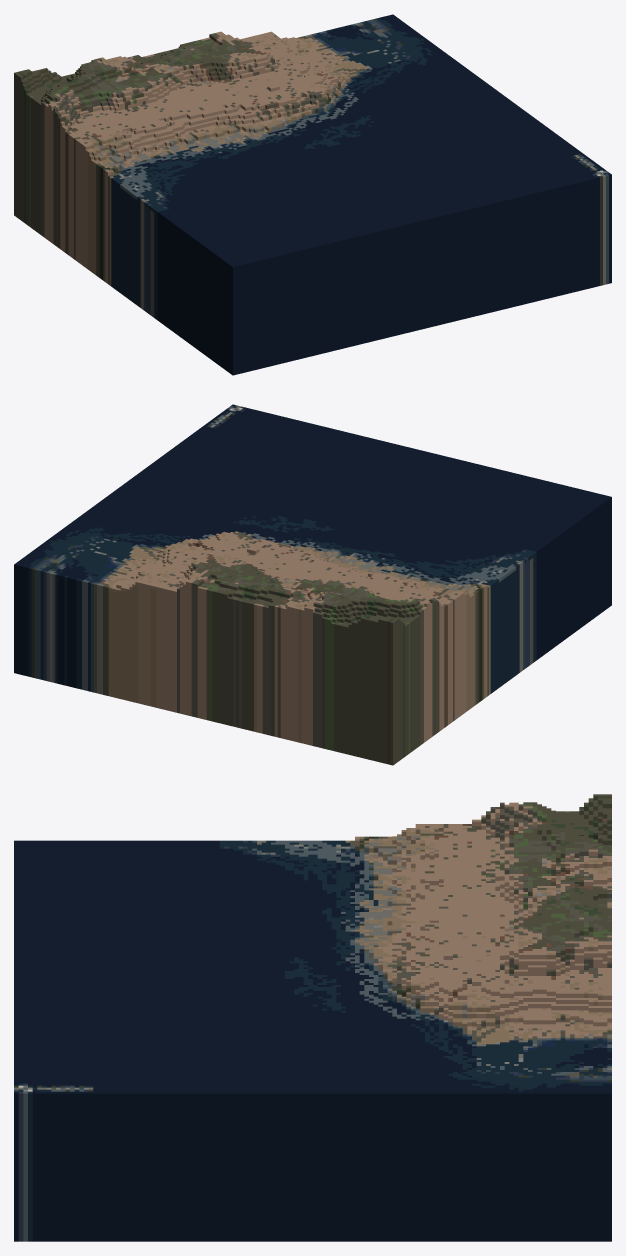
File: MapⅤ2-1.obj
The picture shows the model from 3 angles, top to bottom: view 1: azimuth 30°, elevation 25°; view 2: azimuth 150°, elevation 25°; view 3: azimuth 270°, elevation 25°; orthographic projection. The views are drawn at different scales.
Size of the model in its own units: 12.8 by 4.6 by 12.8.
1 material, 1 textured.
